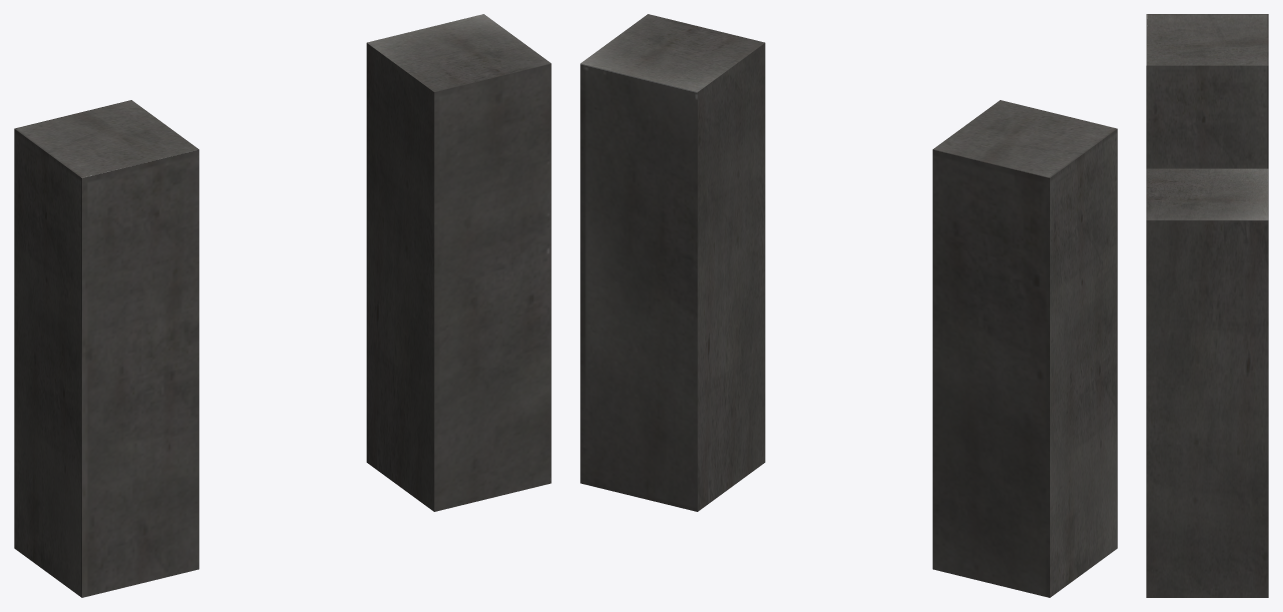
File: portaladostipo 1.glb
3 views of the same model, side by side, from view 1: azimuth 30°, elevation 25°; view 2: azimuth 150°, elevation 25°; view 3: azimuth 270°, elevation 25° (orthographic). The views are drawn at different scales.
Parts seen in each view (by area): view 1: Cube.019; view 2: Cube.019; view 3: Cube.019.
Part boxes in pixels (<box>): Cube.019: <box>14,14,551,597</box>; Cube.019: <box>580,14,1117,597</box>; Cube.019: <box>1146,14,1268,597</box>.
Bounding box in the file's own units: 2 × 1.71 × 0.5.
1 material, 1 textured.
